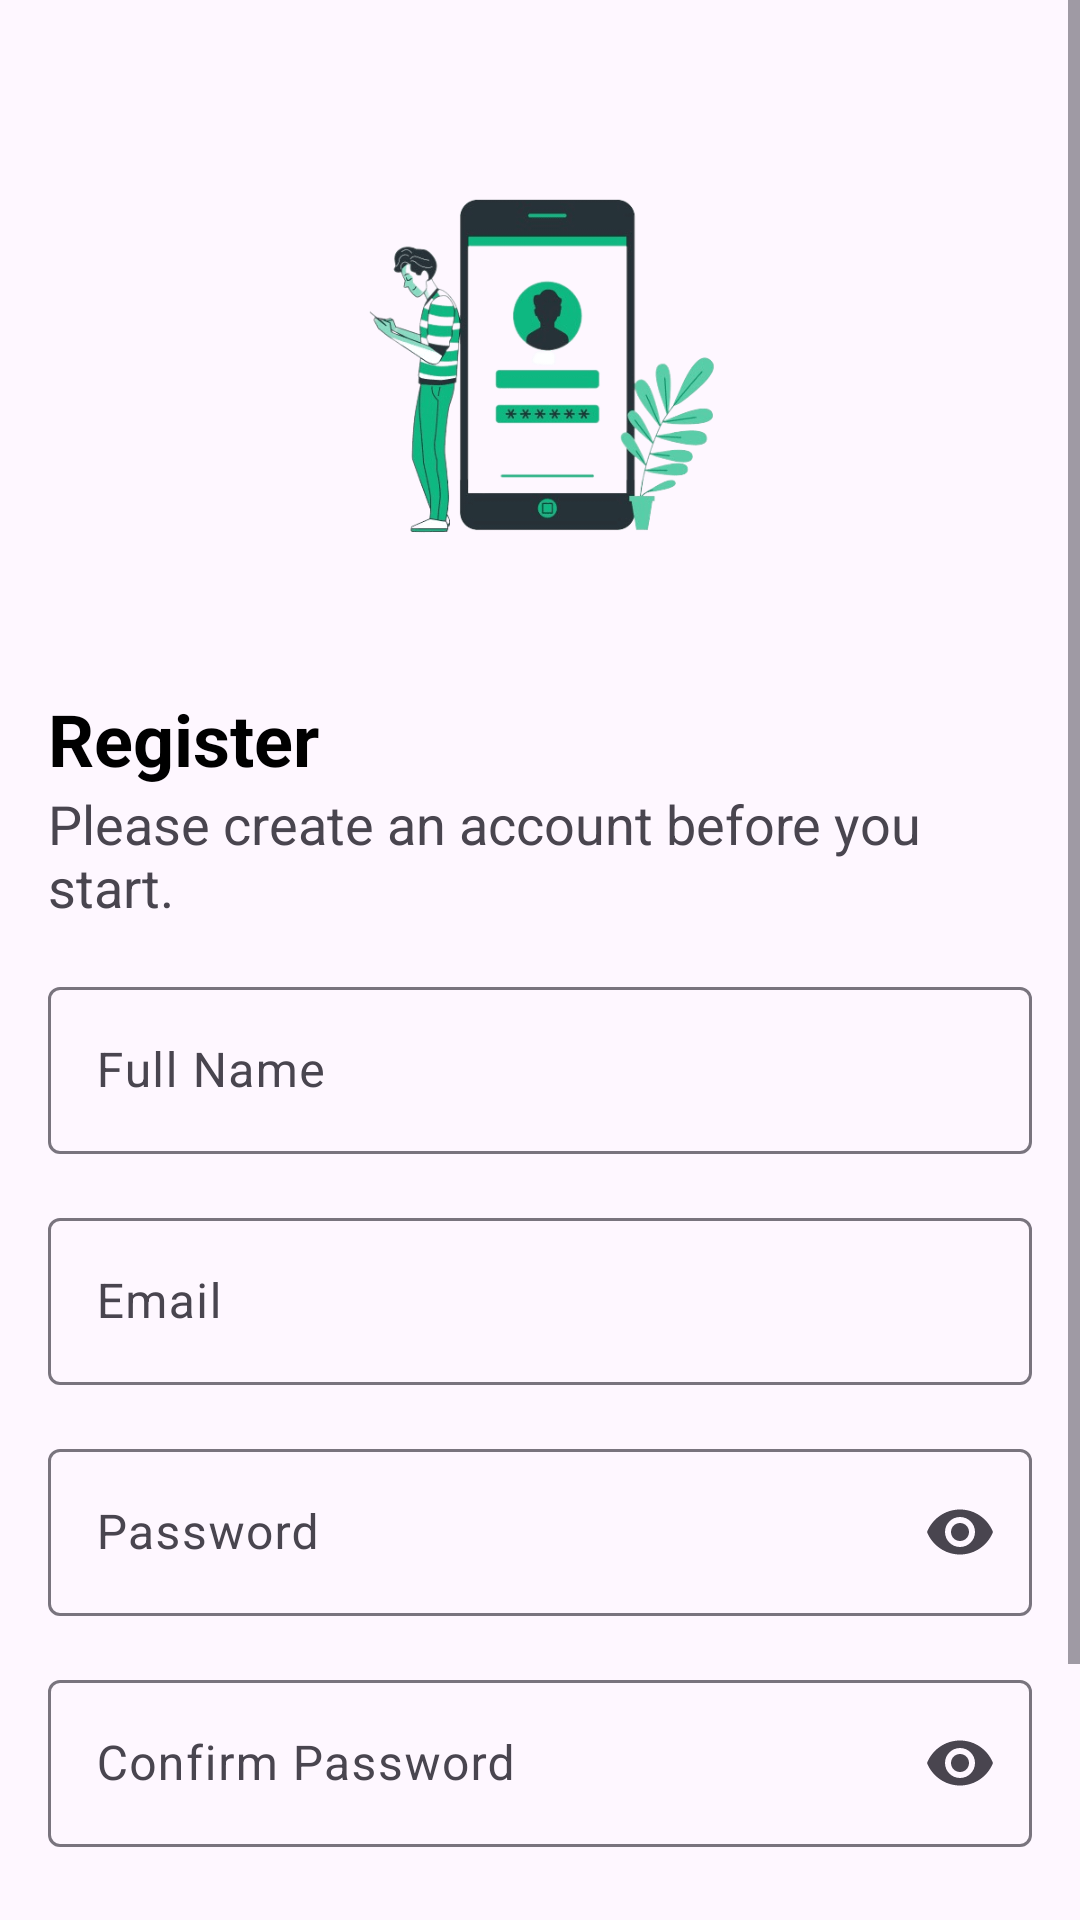

Icon bounding boxes for this 1080px×1920px phone screenshot, format (x1, y1, x2, y2):
Auth: (370, 199, 714, 532)
